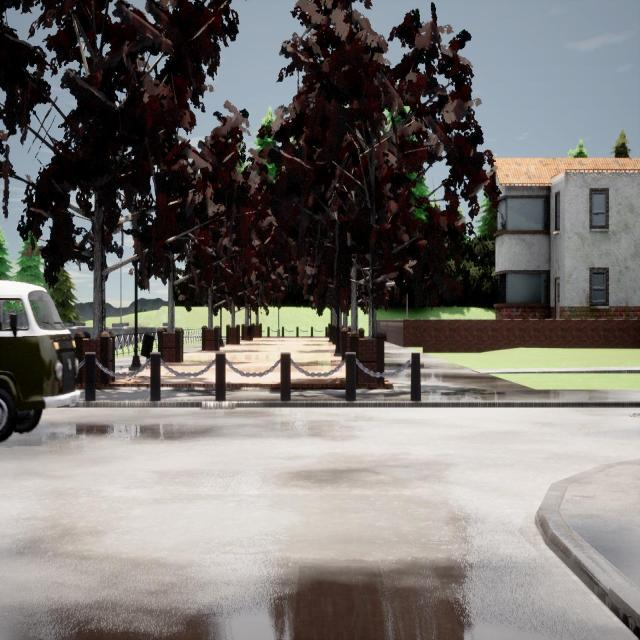Vehicle: (0, 279, 79, 443)
